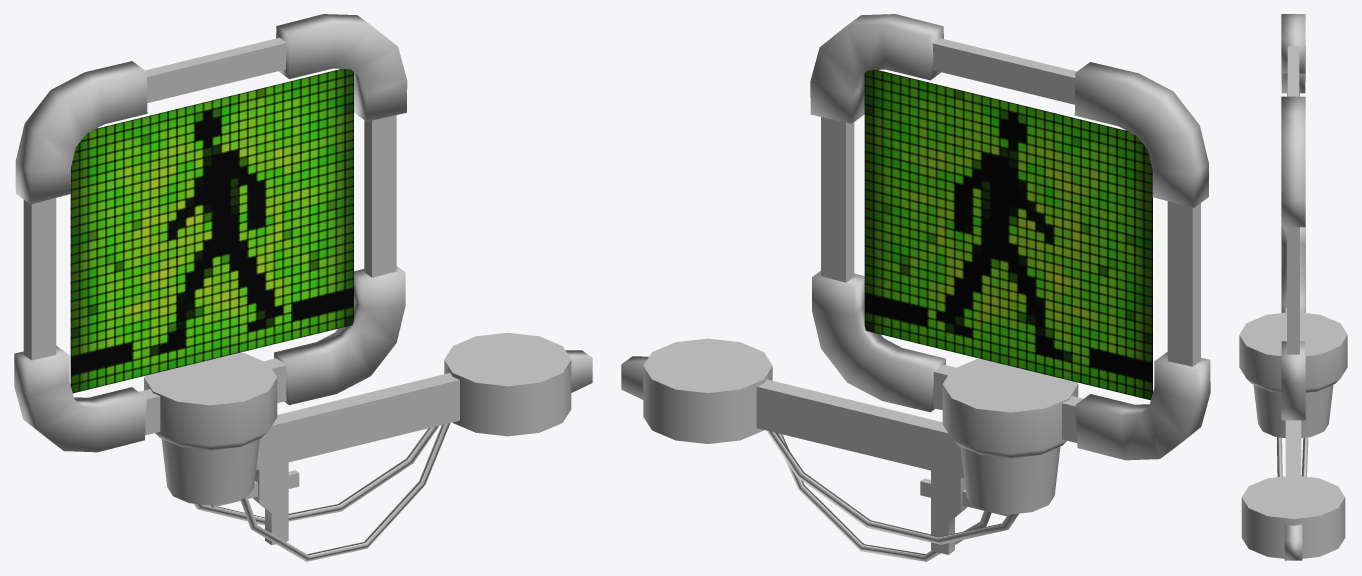
The model's file is Streetlight2.fbx.
3 renders of one model, left to right at view 1: azimuth 30°, elevation 25°; view 2: azimuth 150°, elevation 25°; view 3: azimuth 270°, elevation 25°, orthographic. The views are drawn at different scales.
Parts seen in each view (by area): view 1: polySurface282; view 2: polySurface282; view 3: polySurface282.
Part boxes in pixels (<box>): polySurface282: <box>14,14,592,561</box>; polySurface282: <box>621,14,1210,561</box>; polySurface282: <box>1239,14,1347,561</box>.
Size of the model in its own units: 0.4787 by 0.4313 by 0.0975.
